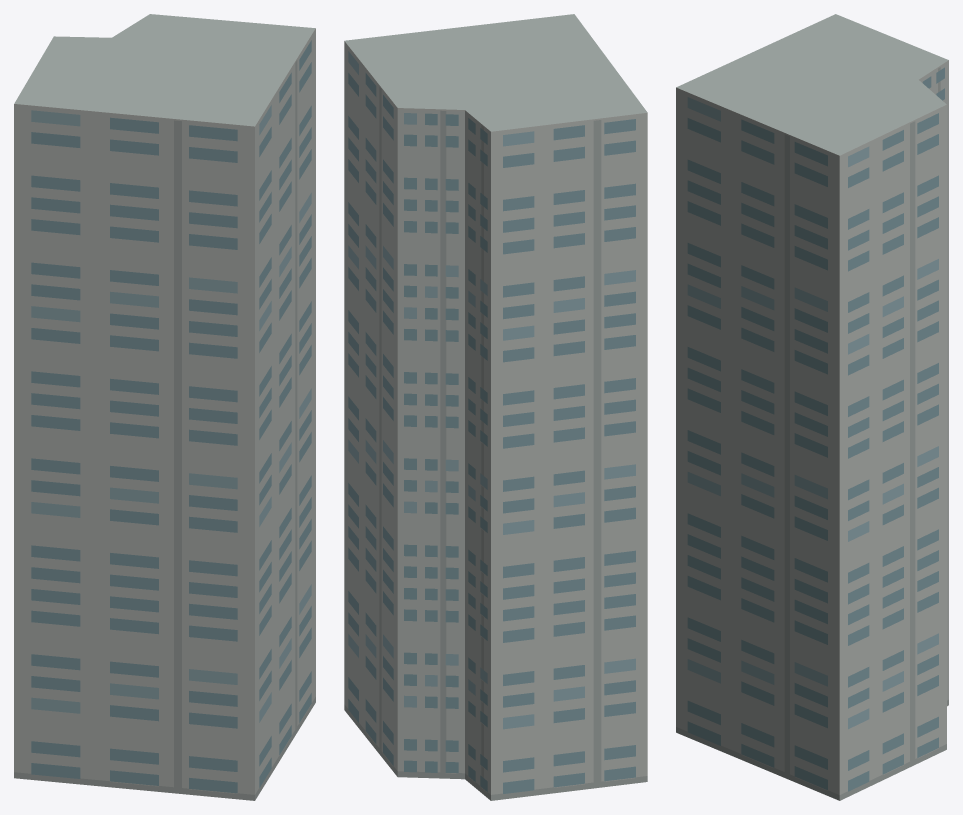
Rendered from residential-cab6140d-5b1c-4de5-ac1b-4eaccdaae09c.glb.
3 views of the same model, side by side, from view 1: azimuth 30°, elevation 25°; view 2: azimuth 150°, elevation 25°; view 3: azimuth 270°, elevation 25° (orthographic). The views are drawn at different scales.
Visible parts, largest first — view 1: residential-cab6140d-5b1c-4de5-ac1b-4eaccdaae09c.tmp; view 2: residential-cab6140d-5b1c-4de5-ac1b-4eaccdaae09c.tmp; view 3: residential-cab6140d-5b1c-4de5-ac1b-4eaccdaae09c.tmp.
Boxes of the visible parts, left/top/right/bottom form: residential-cab6140d-5b1c-4de5-ac1b-4eaccdaae09c.tmp: left=14, top=14, right=315, bottom=800; residential-cab6140d-5b1c-4de5-ac1b-4eaccdaae09c.tmp: left=344, top=14, right=647, bottom=800; residential-cab6140d-5b1c-4de5-ac1b-4eaccdaae09c.tmp: left=676, top=14, right=948, bottom=800.
Size of the model in its own units: 51.87 by 110 by 42.18.
